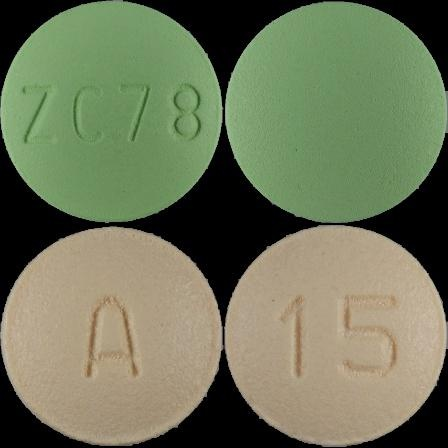50268-699: (0, 0, 224, 224)
